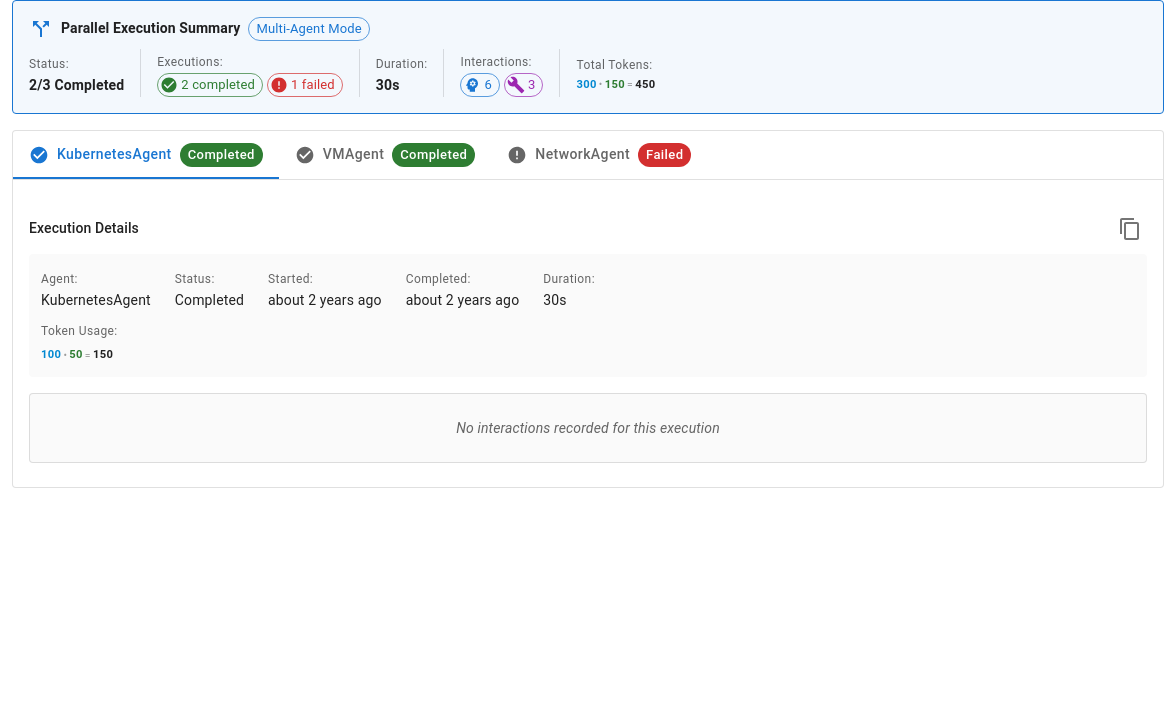
Scenario: ParallelStageExecutionTabs › Multi-Agent Parallel Execution › displays error message for failed execution
Click the tab "NetworkAgent Failed" at (599, 155), box [491,131,707,179]
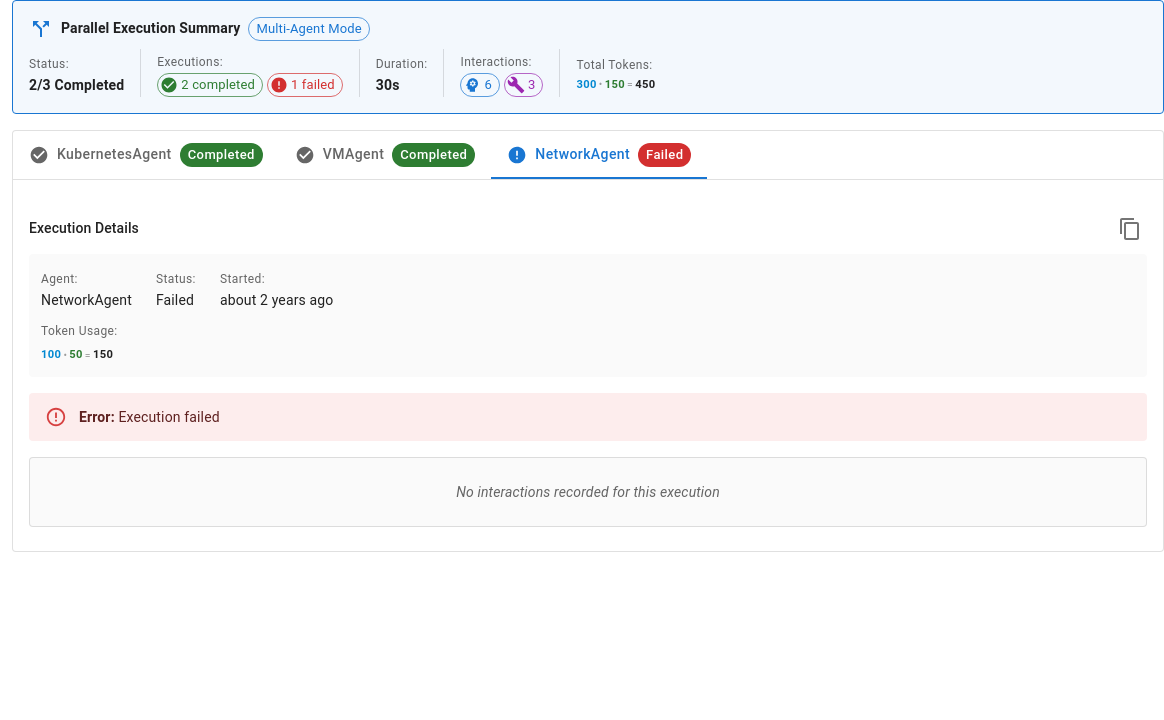
Expected: the text "Error: Execution failed" is shown, [79,406,220,426]
